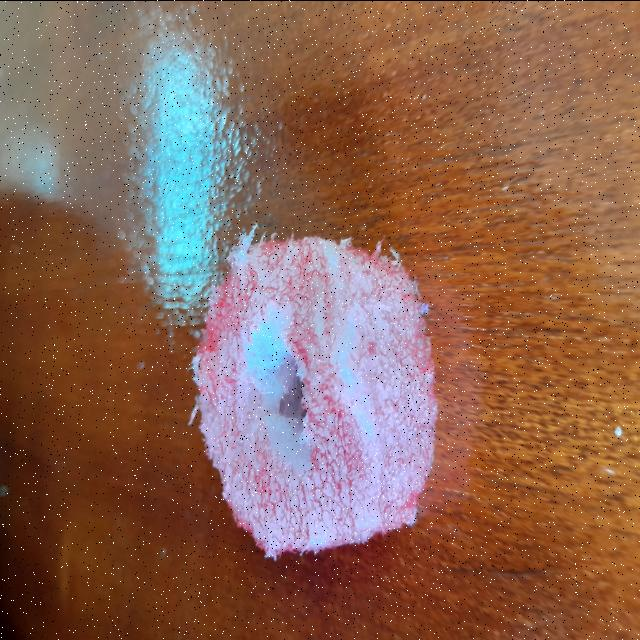wheel: (189, 229, 439, 553)
